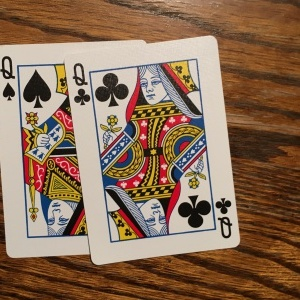card: (65, 36, 241, 264)
